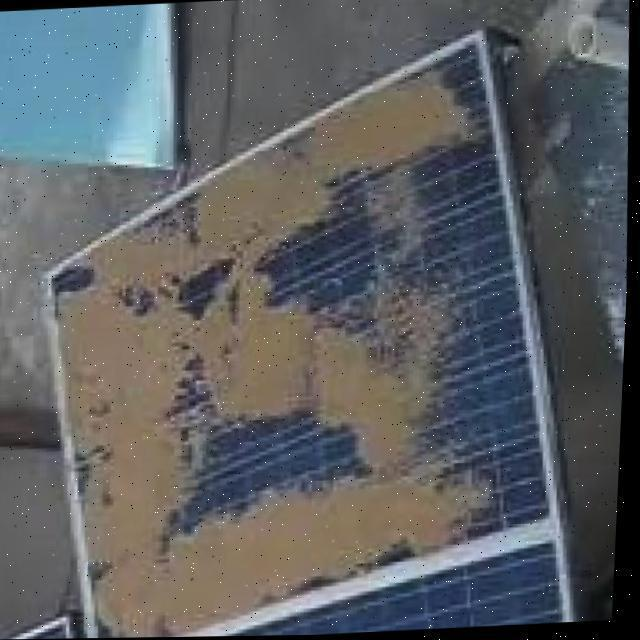Anomaly Solar Panel: (0, 43, 606, 639)
Surface Contaminant: (0, 61, 575, 638)
